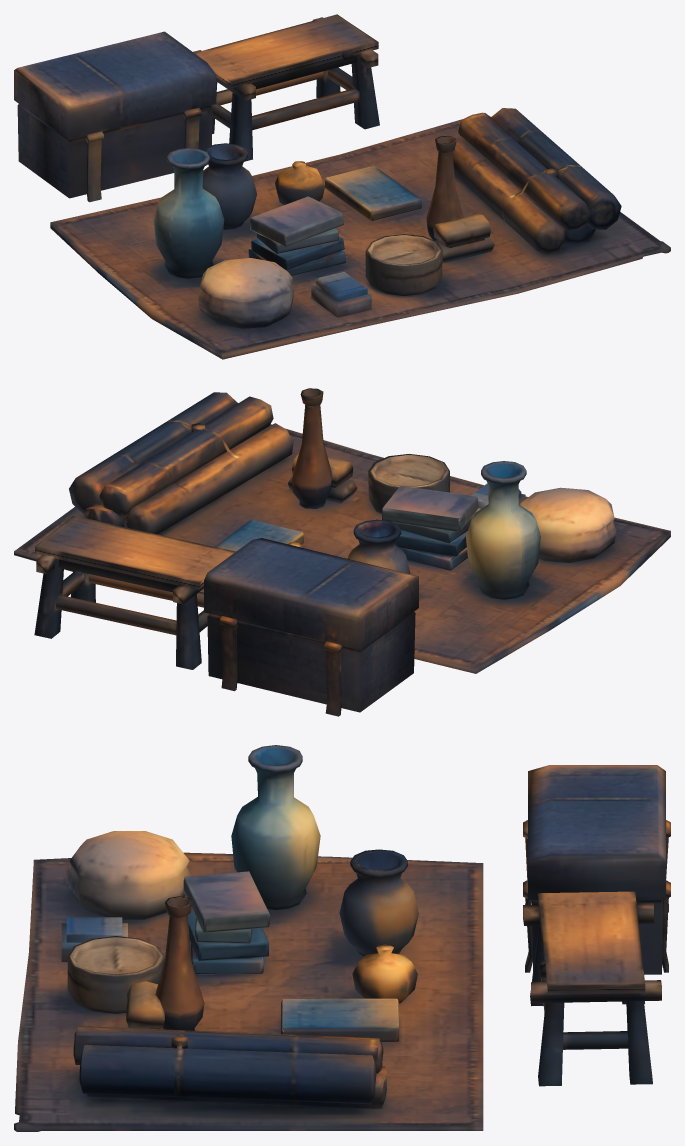
The model's file is 古董铺.glb.
The picture shows the model from 3 angles, top to bottom: view 1: azimuth 30°, elevation 25°; view 2: azimuth 150°, elevation 25°; view 3: azimuth 270°, elevation 25°; orthographic projection. The views are drawn at different scales.
Parts seen in each view (by area): view 1: tripo_node_ce6a87ce-73b1-4047-bcdd-ef2d992da65c; view 2: tripo_node_ce6a87ce-73b1-4047-bcdd-ef2d992da65c; view 3: tripo_node_ce6a87ce-73b1-4047-bcdd-ef2d992da65c.
Boxes of the visible parts, x1,y1,x2,y2 form: tripo_node_ce6a87ce-73b1-4047-bcdd-ef2d992da65c: (14, 14, 670, 359); tripo_node_ce6a87ce-73b1-4047-bcdd-ef2d992da65c: (14, 388, 670, 716); tripo_node_ce6a87ce-73b1-4047-bcdd-ef2d992da65c: (14, 745, 670, 1131).
Bounding box in the file's own units: 0.3252 × 0.0806 × 0.3232.
Materials: 1 (1 with a texture image).
